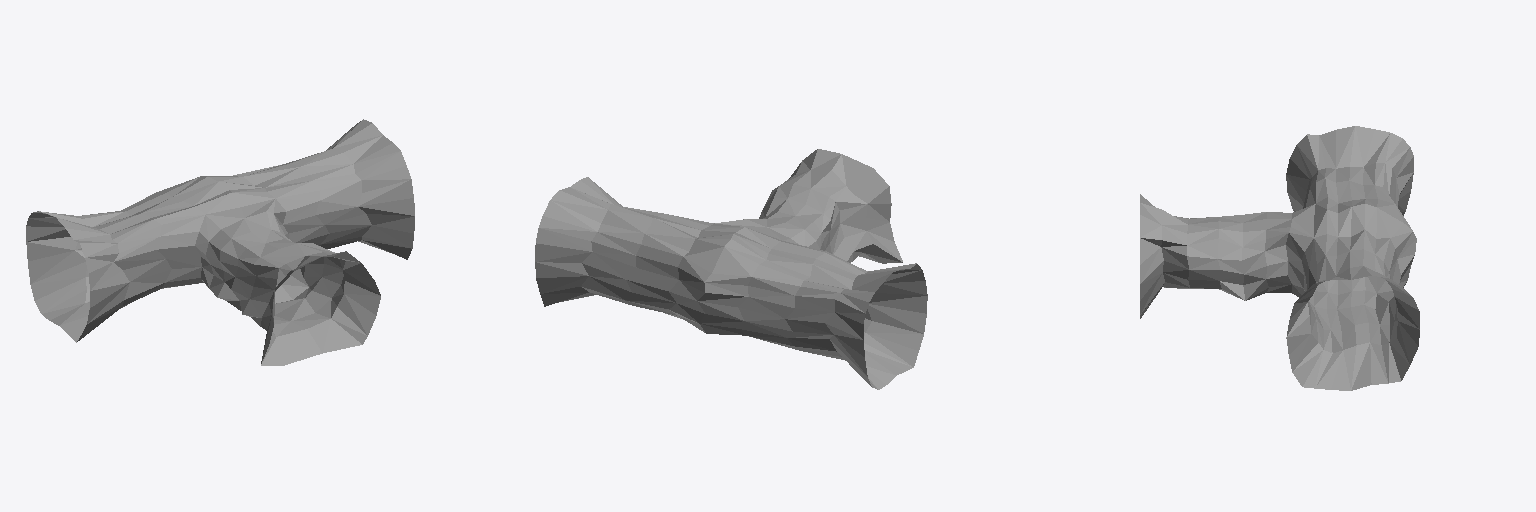
The model's file is junction.obj.
3 renders of one model, left to right at view 1: azimuth 30°, elevation 25°; view 2: azimuth 150°, elevation 25°; view 3: azimuth 270°, elevation 25°, orthographic.
Parts seen in each view (by area): view 1: collision-1; view 2: collision-1; view 3: collision-1.
Part boxes in pixels (left/top/right/bottom): collision-1: left=26, top=119, right=414, bottom=365; collision-1: left=535, top=149, right=927, bottom=389; collision-1: left=1140, top=126, right=1419, bottom=390.
Size of the model in its own units: 92 by 32.24 by 68.68.